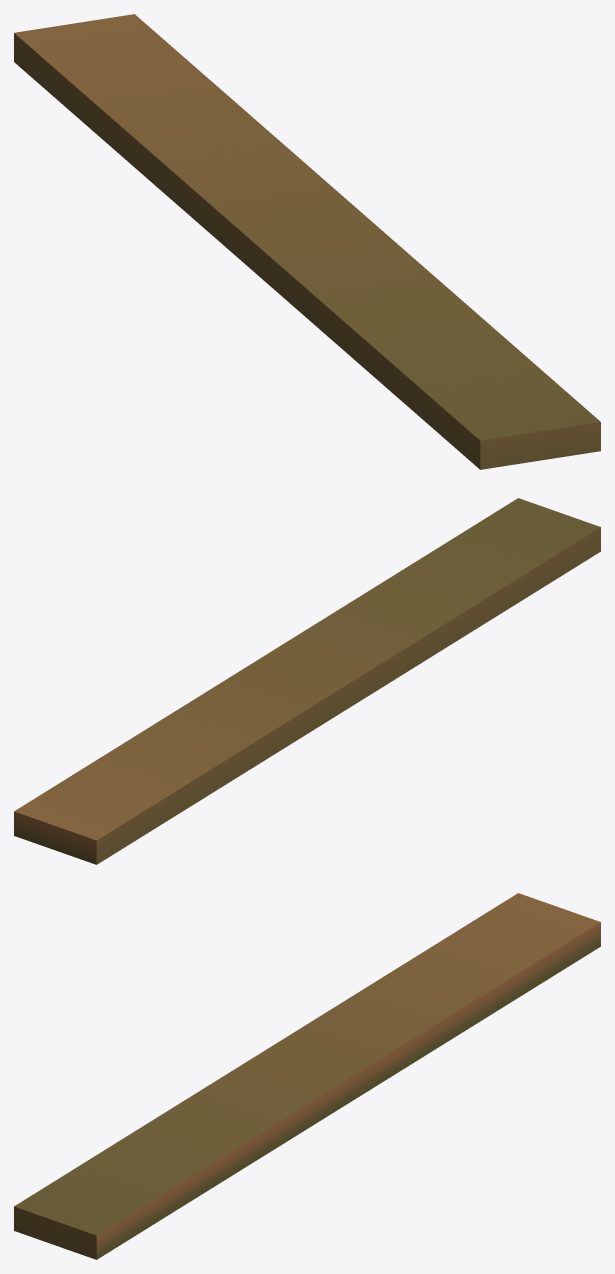
3 views of the same model, one above another, from view 1: azimuth 30°, elevation 25°; view 2: azimuth 150°, elevation 25°; view 3: azimuth 330°, elevation 25° (orthographic). The views are drawn at different scales.
Parts seen in each view (by area): view 1: Object044; view 2: Object044; view 3: Object044.
Part boxes in pixels (x1,y1,x2,y2): Object044: [14, 14, 600, 469]; Object044: [14, 498, 600, 864]; Object044: [14, 893, 600, 1259].
Size of the model in its own units: 87.34 by 13.68 by 464.
